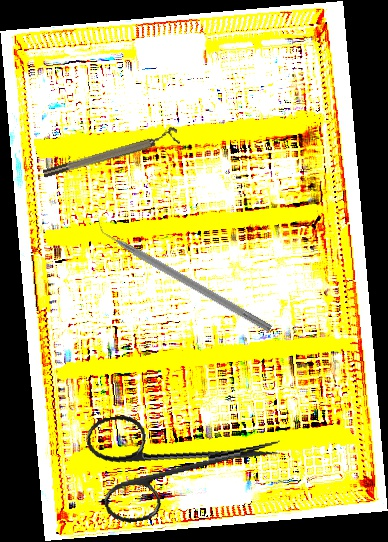Chopper: (90, 213, 279, 333)
Fixation Ring: (40, 125, 181, 181)
Iris Scissors: (83, 391, 290, 528)
